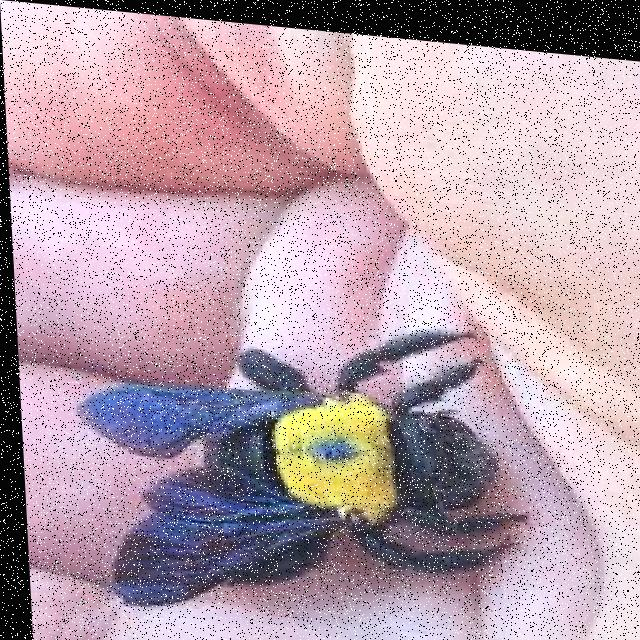Xylocopa: (61, 303, 531, 618)
